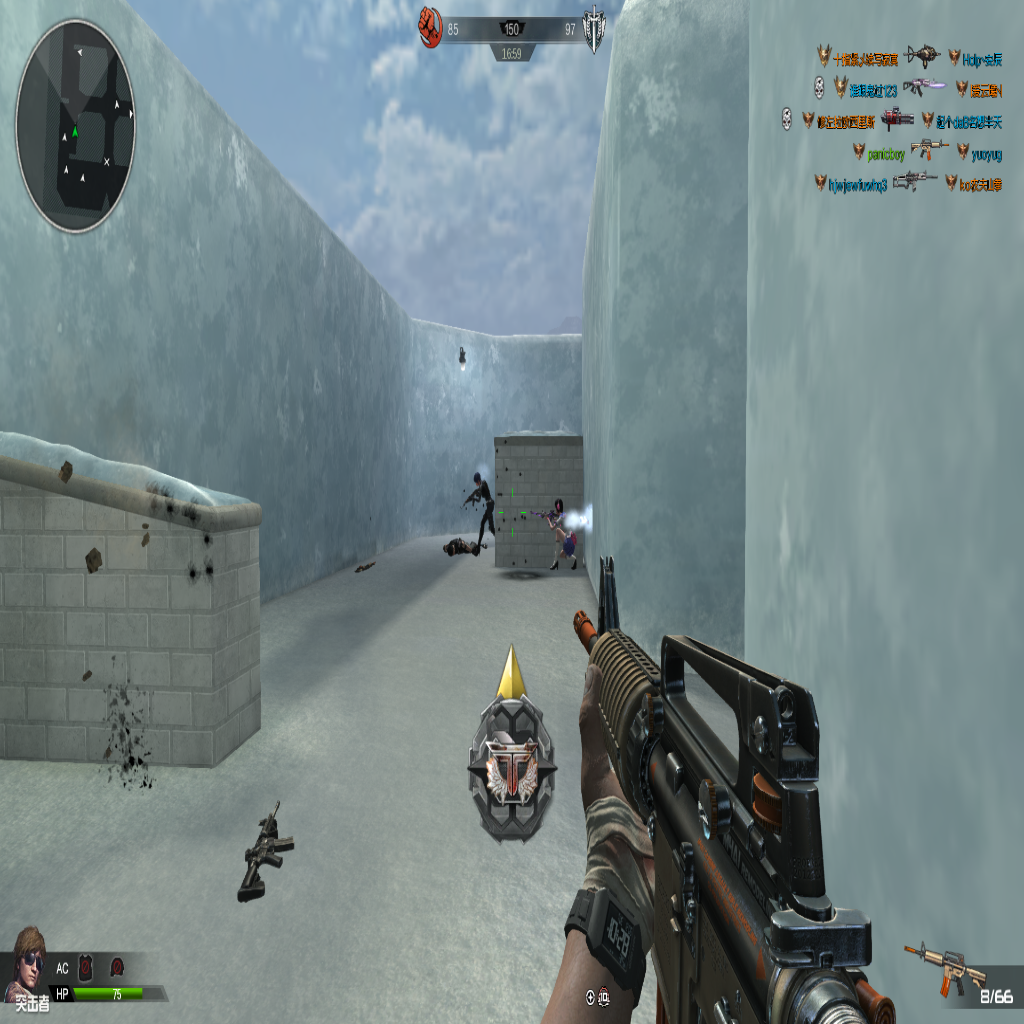ct: (465, 473, 498, 546)
